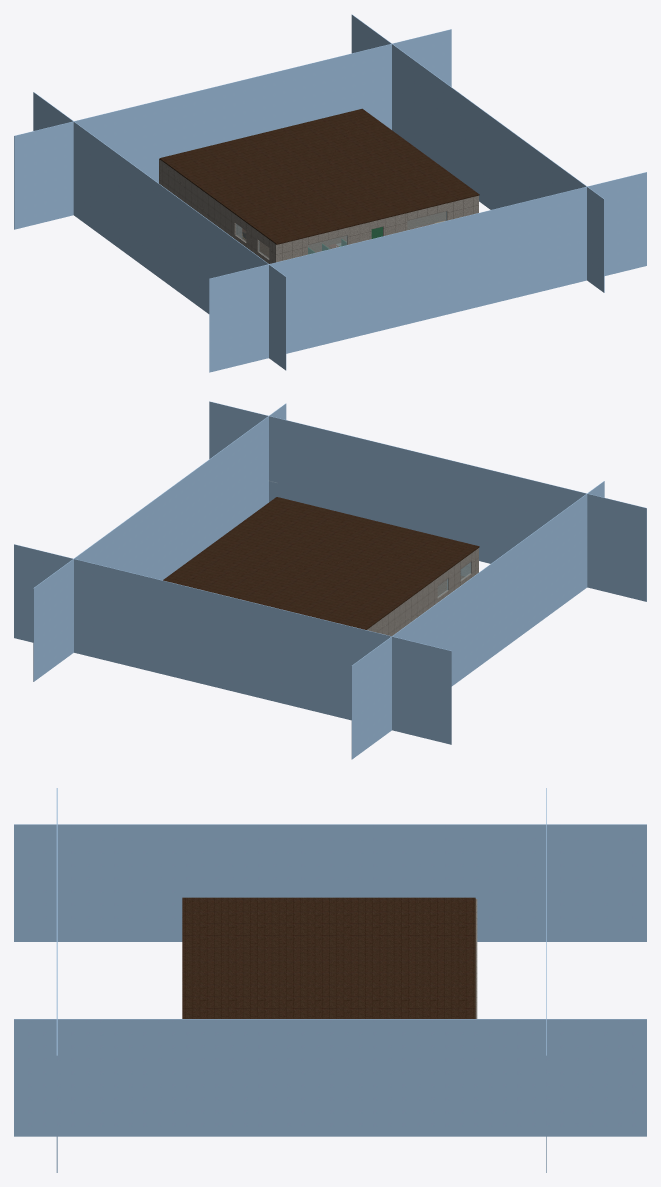
File: interior.glb
3 views of the same model, one above another, from view 1: azimuth 30°, elevation 25°; view 2: azimuth 150°, elevation 25°; view 3: azimuth 270°, elevation 25° (orthographic). The views are drawn at different scales.
Parts seen in each view (by area): view 1: Sky_Front, Sky_Back, Ceiling, Sky_West, Sky_East, Walls_W_00, House_Floor_Main, Walls_Front_00, Walls_Front_03; view 2: Sky_Back, Sky_Front, Ceiling, Sky_West, Sky_East, Walls_W_00; view 3: Sky_East, Sky_West, Ceiling, Sky_Front.
Part boxes in pixels (bbox=[...]): Sky_Front: bbox=[209, 172, 646, 372]; Sky_Back: bbox=[14, 29, 451, 229]; Ceiling: bbox=[159, 108, 479, 244]; Sky_West: bbox=[33, 92, 286, 370]; Sky_East: bbox=[351, 14, 604, 292]; Walls_W_00: bbox=[160, 160, 236, 238]; House_Floor_Main: bbox=[242, 211, 445, 257]; Walls_Front_00: bbox=[275, 237, 307, 262]; Walls_Front_03: bbox=[446, 195, 478, 220]; Sky_Back: bbox=[14, 544, 451, 744]; Sky_Front: bbox=[209, 401, 646, 601]; Ceiling: bbox=[163, 497, 479, 629]; Sky_West: bbox=[351, 481, 604, 759]; Sky_East: bbox=[33, 403, 286, 681]; Walls_W_00: bbox=[367, 578, 437, 636]; Sky_East: bbox=[14, 1019, 646, 1136]; Sky_West: bbox=[14, 824, 646, 941]; Ceiling: bbox=[182, 897, 475, 1018]; Sky_Front: bbox=[56, 788, 57, 1172].
Size of the model in its own units: 44 by 9 by 44.
52 materials, 47 textured.
